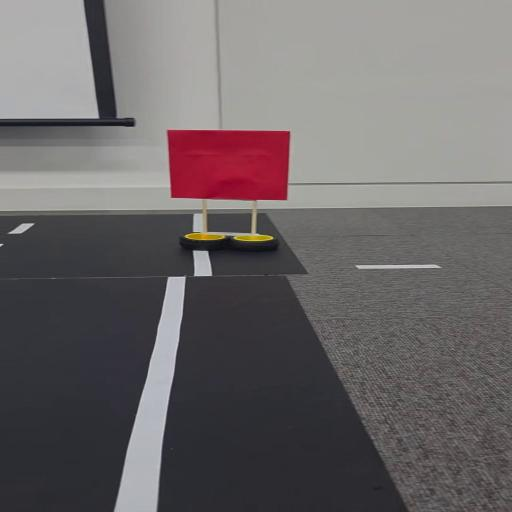Sign_A: (161, 124, 294, 256)
